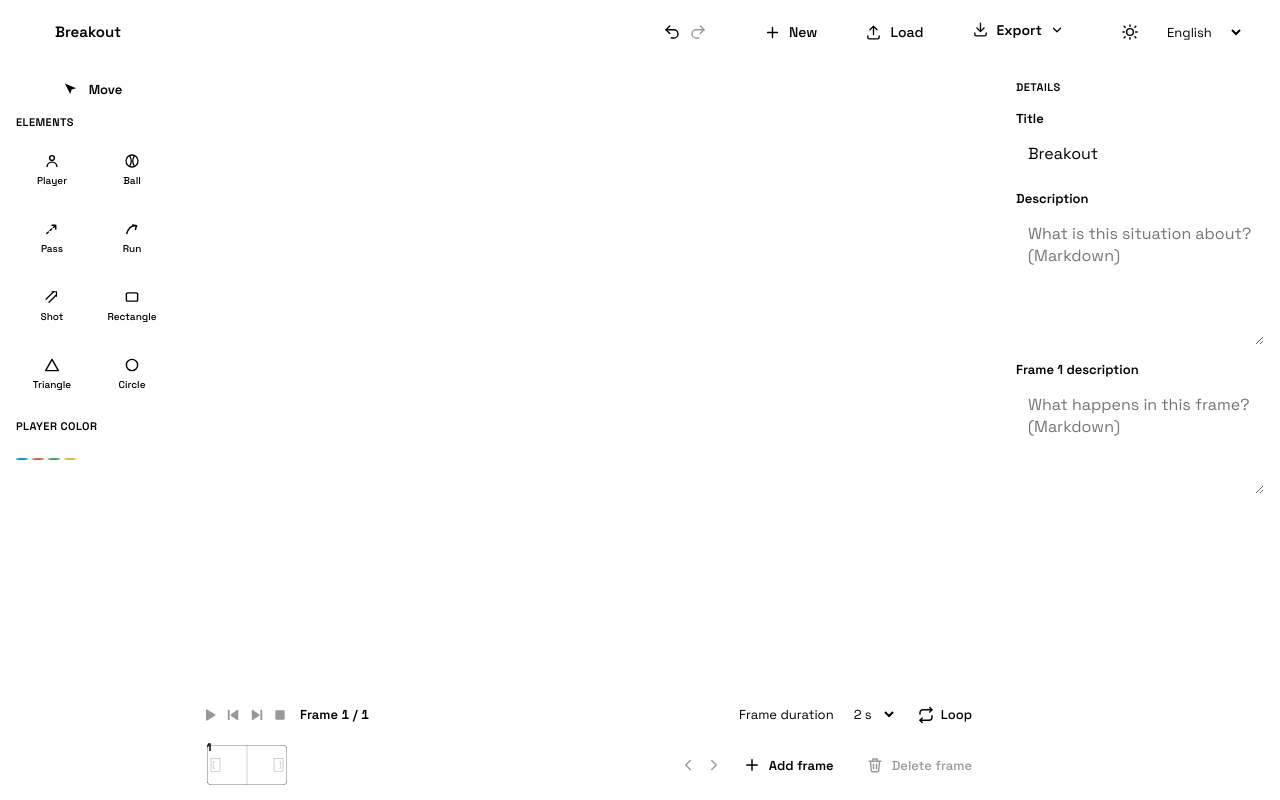
Test: editor page › New › discarding and creating replaces the situation
The width and height of the screenshot is (1280, 800).
Click the button "New".
click(791, 32)  # box 748,23 -> 833,41
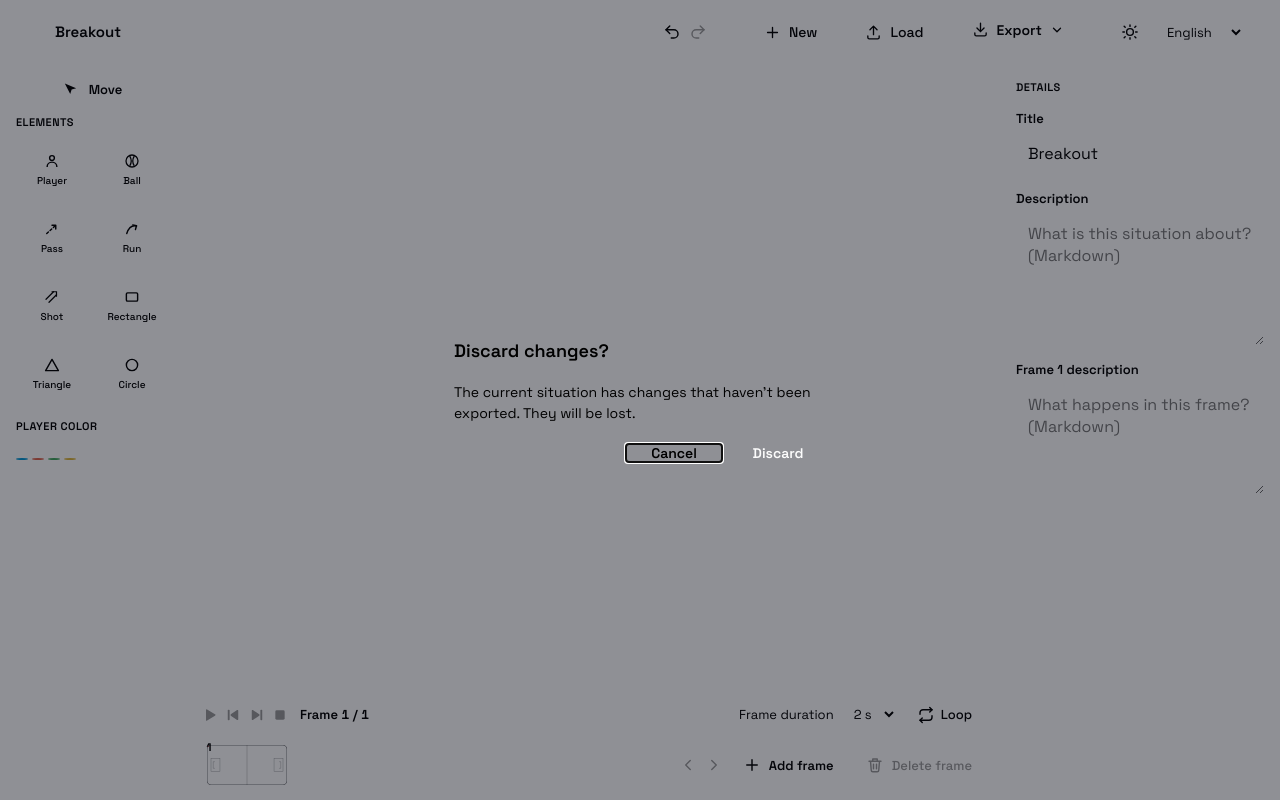
Click the button "Discard".
click(778, 452)  # box 730,444 -> 826,462
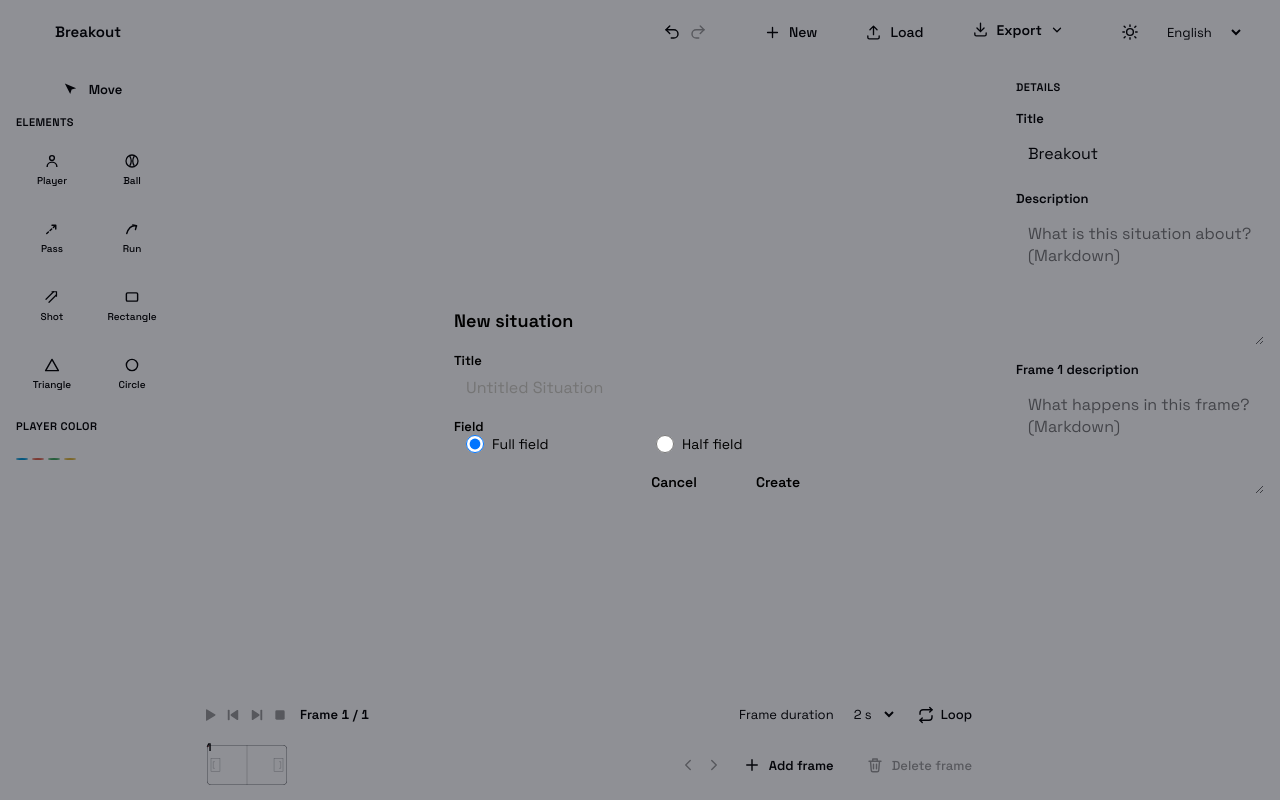
Click the radio button labelled "Half field".
click(665, 444)  # box 656,435 -> 674,453
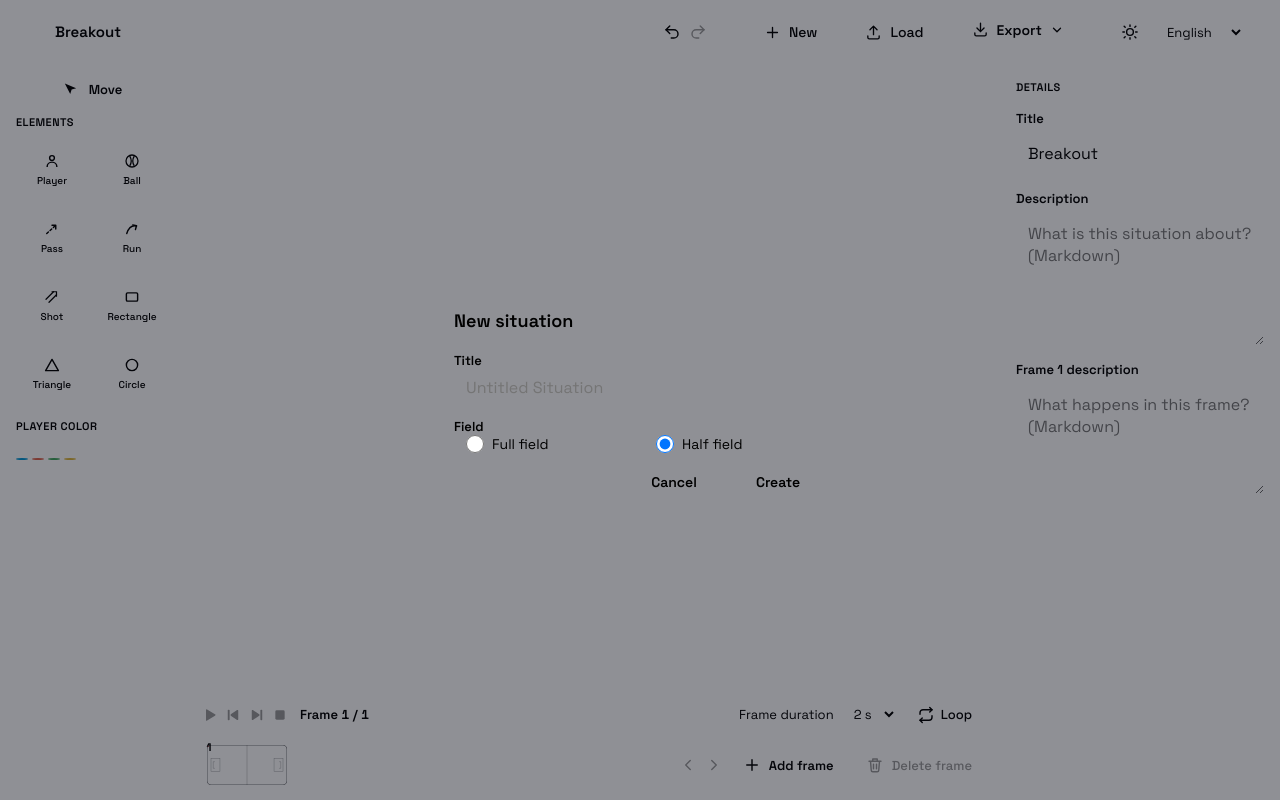
Click the button "Create".
click(778, 482)  # box 730,473 -> 826,491
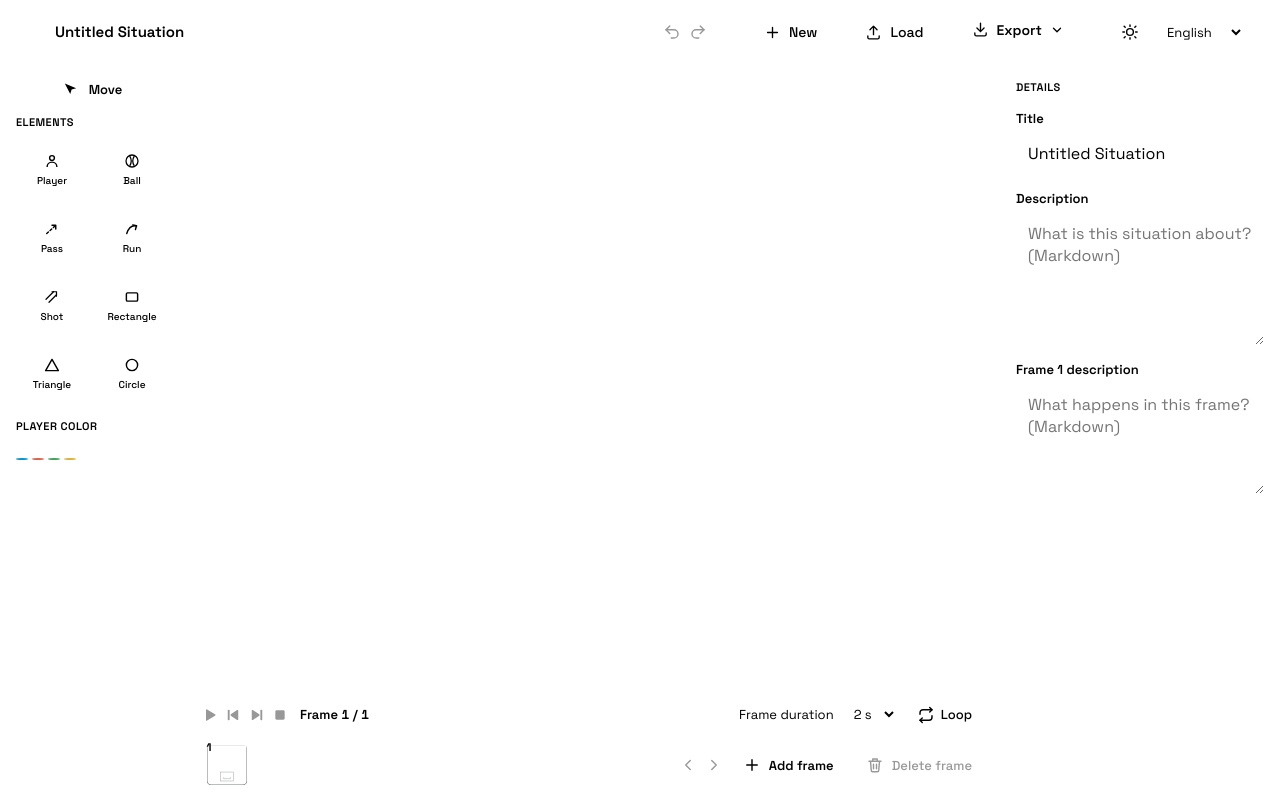
Expected: the heading "Untitled Situation" is shown, 55,22 -> 184,41
